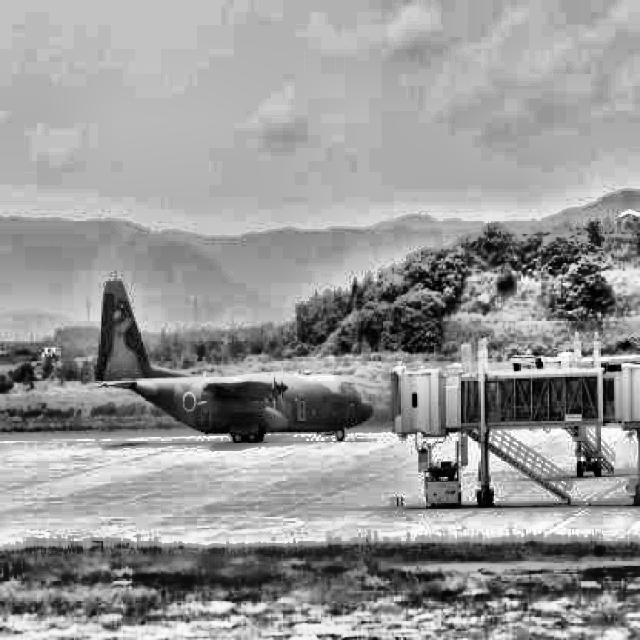C130: (92, 278, 374, 444)
